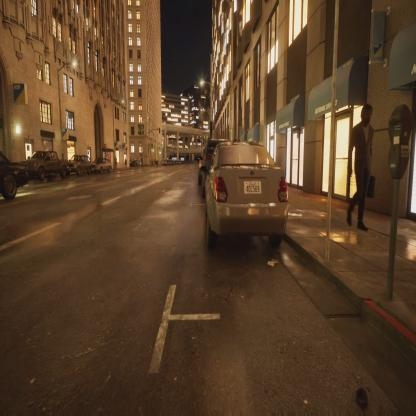License-Plate: (238, 171, 269, 209)
